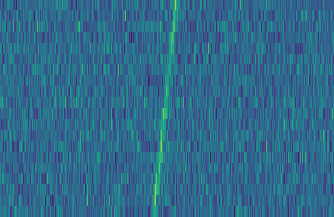signal: (148, 0, 181, 217)
